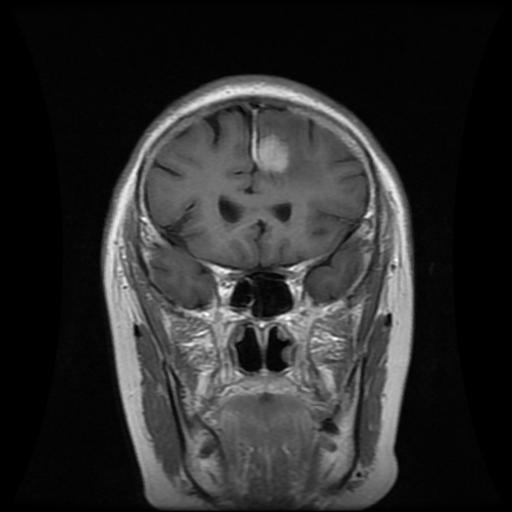Menigiomia_tumour: (248, 111, 318, 184)
